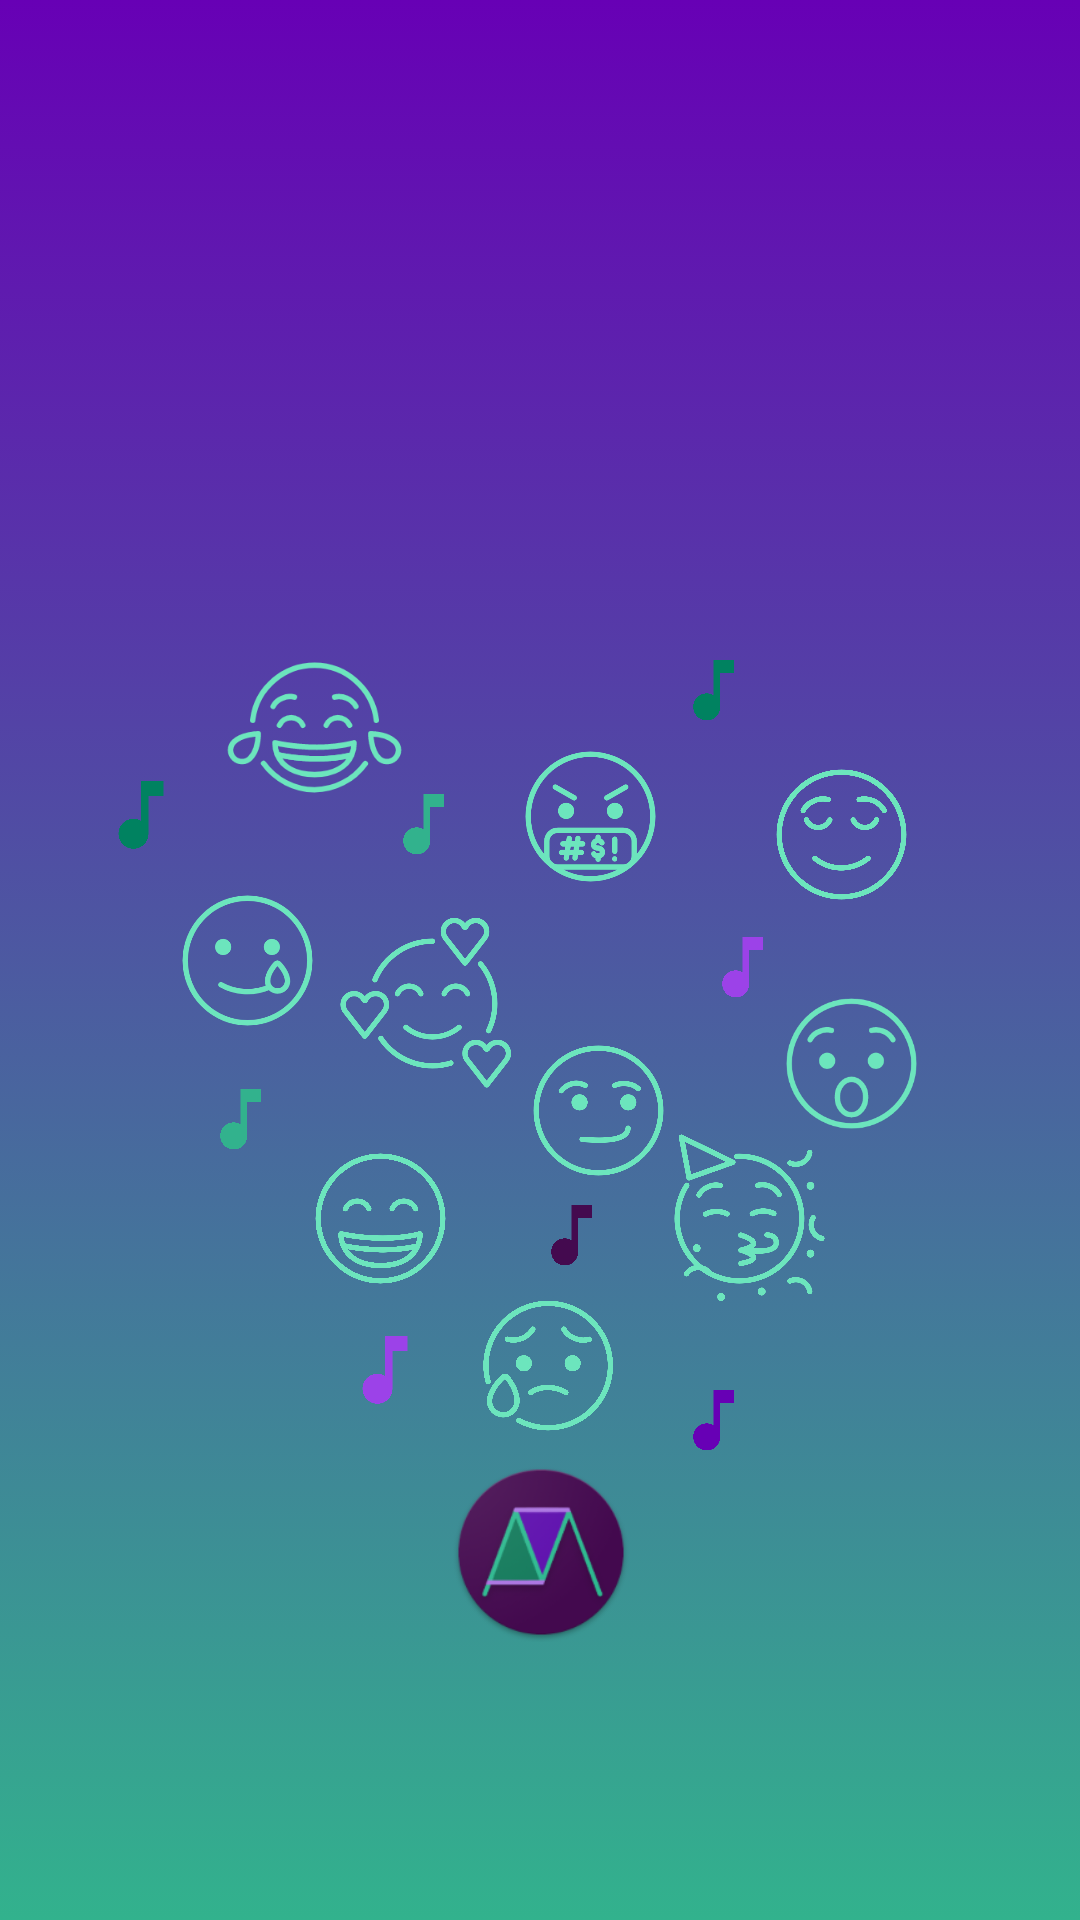

Icons on this 1080 x 1920 Android screen, each with the point to tap as [x,y]:
amused: [314,711]
angry: [590,816]
calm: [841,834]
excited: [749,1217]
happy: [380,1202]
love: [425,1003]
music note: [713,690], [141,815]
music note main: [423,824], [240,1119]
music note purp: [742,967], [571,1235], [385,1370]
music note purp main: [713,1420]
nostaligic: [247,960]
proud: [598,1110]
sad: [547,1382]
wonder: [851,1063]
